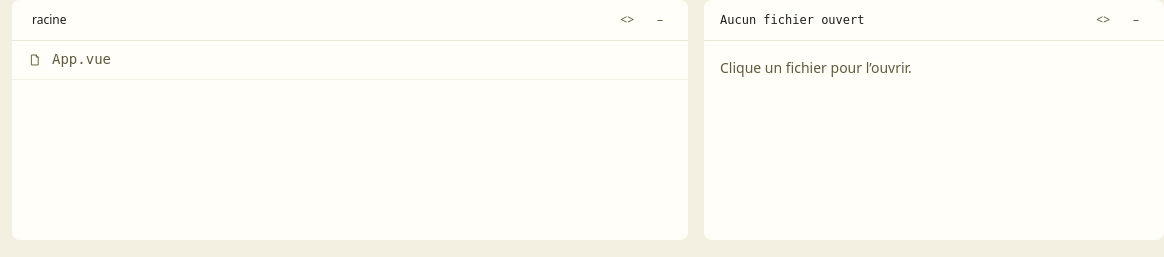
Scenario: FileBrowser affiche le rendu deja colore par le serveur › signale par i18n quand le serveur n'a pas su colorer le fichier
Click the button "App.vue": (82, 59) [12,41,688,80]
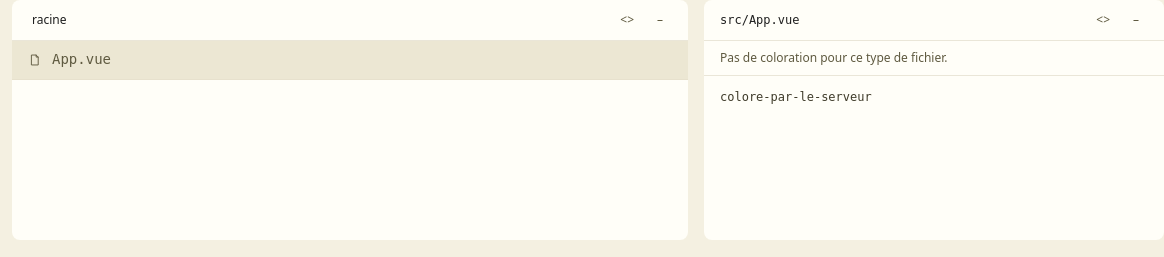
Check: the text "Pas de coloration pour ce type de fichier." is shown, box [704,41,1163,76]
